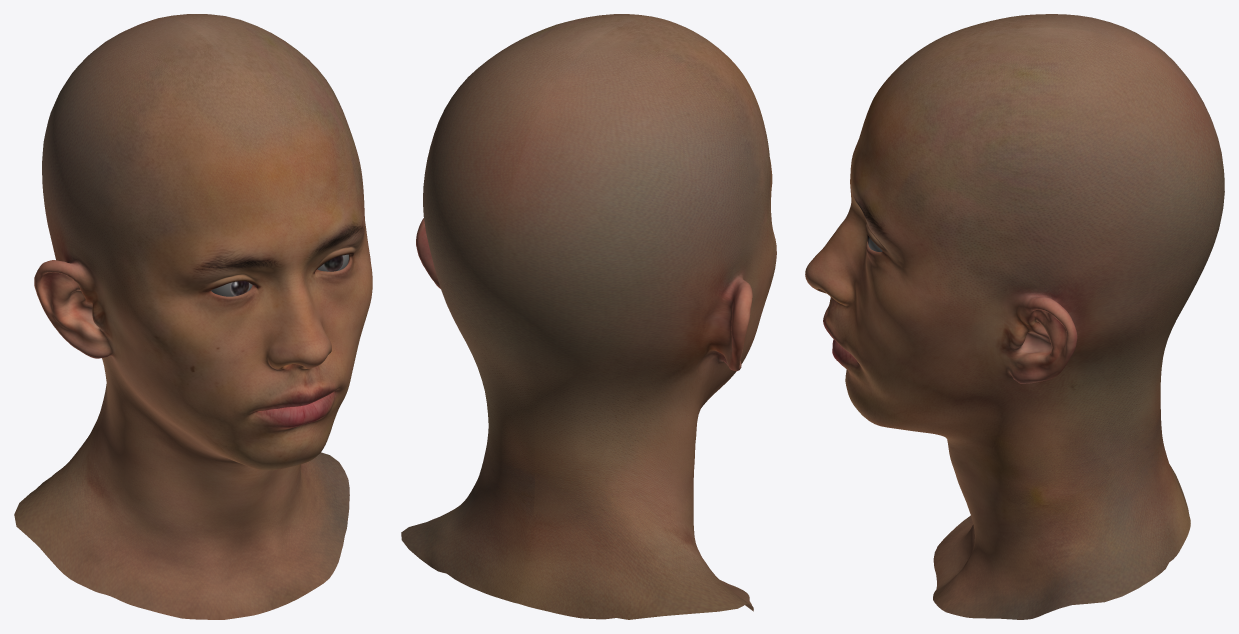
The picture shows the model from 3 angles, left to right: view 1: azimuth 30°, elevation 25°; view 2: azimuth 150°, elevation 25°; view 3: azimuth 270°, elevation 25°; orthographic projection. The views are drawn at different scales.
Visible parts, largest first — view 1: UnchangedNativeHead; view 2: UnchangedNativeHead; view 3: UnchangedNativeHead.
Boxes of the visible parts, x1,y1,x2,y2 form: UnchangedNativeHead: (14,14,372,619); UnchangedNativeHead: (401,14,776,619); UnchangedNativeHead: (805,14,1224,619).
Size of the model in its own units: 1.16 by 1.91 by 1.3.
3 materials, 3 textured.
